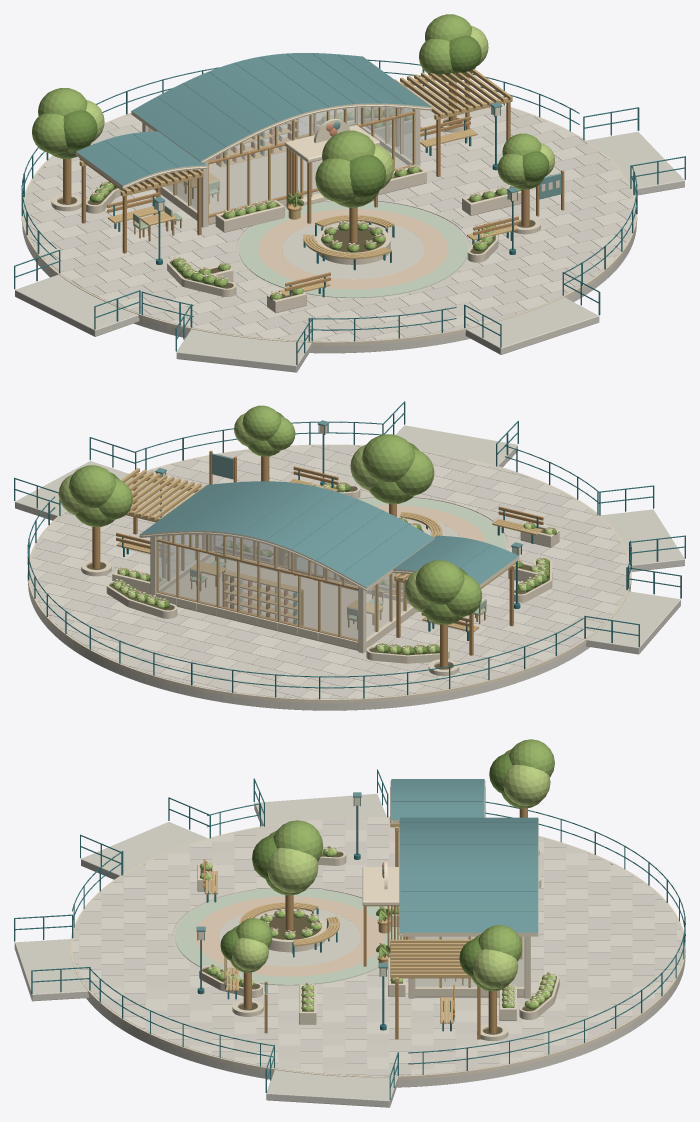
Rendered from senior.glb.
3 renders of one model, top to bottom at view 1: azimuth 30°, elevation 25°; view 2: azimuth 150°, elevation 25°; view 3: azimuth 270°, elevation 25°, orthographic.
Parts seen in each view (by area): view 1: Site_Components__WarmLimestonePaver1, Site_Components__WarmLimestonePaver0, Site_Components__WarmLimestonePaver2, Site_Components__stone, CommunityLifeHall__roof, Landscape_Components__leaf, CommunityLifeHall__Clear warm architectural glazing, Landscape_Components__cream, Site_Components__rail, Landscape_Components__leafDark, Landscape_Components__Soft sage stone inlay, Landscape_Components__Warm peach stone inlay (+25 smaller); view 2: Site_Components__WarmLimestonePaver2, Site_Components__WarmLimestonePaver0, Site_Components__WarmLimestonePaver1, CommunityLifeHall__roof, Site_Components__stone, CommunityLifeHall__Clear warm architectural glazing, Landscape_Components__leaf, Site_Components__rail, CommunityLifeHall__floor, Landscape_Components__cream, CommunityLifeHall__cream, Site_Components__cream (+21 smaller); view 3: Site_Components__WarmLimestonePaver1, Site_Components__WarmLimestonePaver0, Site_Components__WarmLimestonePaver2, Site_Components__stone, CommunityLifeHall__roof, Landscape_Components__leaf, Landscape_Components__leafLight, Site_Components__rail, Landscape_Components__Warm peach stone inlay, Landscape_Components__Soft sage stone inlay, Landscape_Components__cream, Site_Components__cream (+17 smaller).
Part boxes in pixels (x1,y1,x2,y2): Site_Components__WarmLimestonePaver1: (30, 89, 634, 341); Site_Components__WarmLimestonePaver0: (23, 87, 629, 341); Site_Components__WarmLimestonePaver2: (24, 88, 635, 339); Site_Components__stone: (15, 131, 684, 372); CommunityLifeHall__roof: (131, 53, 431, 161); Landscape_Components__leaf: (32, 14, 543, 299); CommunityLifeHall__Clear warm architectural glazing: (148, 107, 412, 214); Landscape_Components__cream: (51, 115, 540, 313); Site_Components__rail: (14, 59, 685, 365); Landscape_Components__leafDark: (63, 35, 549, 300); Landscape_Components__Soft sage stone inlay: (239, 201, 467, 298); Landscape_Components__Warm peach stone inlay: (258, 209, 448, 289); Site_Components__WarmLimestonePaver2: (30, 445, 626, 698); Site_Components__WarmLimestonePaver0: (31, 445, 626, 698); Site_Components__WarmLimestonePaver1: (29, 445, 629, 698); CommunityLifeHall__roof: (140, 481, 434, 587); Site_Components__stone: (15, 425, 684, 710); CommunityLifeHall__Clear warm architectural glazing: (157, 534, 410, 640); Landscape_Components__leaf: (69, 405, 555, 651); Site_Components__rail: (14, 401, 685, 699); CommunityLifeHall__floor: (163, 556, 409, 639); Landscape_Components__cream: (81, 484, 559, 676); CommunityLifeHall__cream: (150, 535, 419, 653); Site_Components__cream: (27, 444, 631, 703); Site_Components__WarmLimestonePaver1: (72, 817, 682, 1075); Site_Components__WarmLimestonePaver0: (73, 818, 683, 1075); Site_Components__WarmLimestonePaver2: (73, 817, 683, 1075); Site_Components__stone: (14, 793, 685, 1107); CommunityLifeHall__roof: (400, 817, 538, 932); Landscape_Components__leaf: (199, 739, 554, 1011); Landscape_Components__leafLight: (207, 764, 556, 1010); Site_Components__rail: (14, 769, 685, 1100); Landscape_Components__Warm peach stone inlay: (194, 896, 384, 976); Landscape_Components__Soft sage stone inlay: (175, 888, 403, 985); Landscape_Components__cream: (197, 848, 559, 1041); Site_Components__cream: (70, 816, 685, 1079).
Size of the model in its own units: 27.98 by 5.3 by 25.81.
